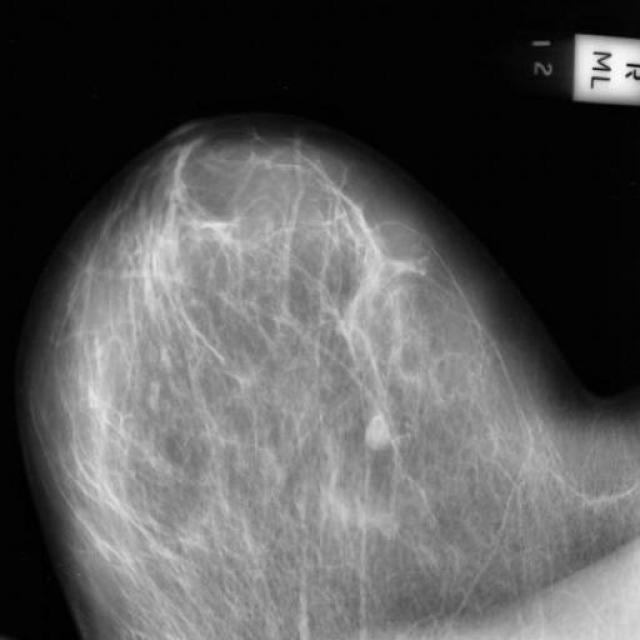cancer: (328, 182, 394, 266)
